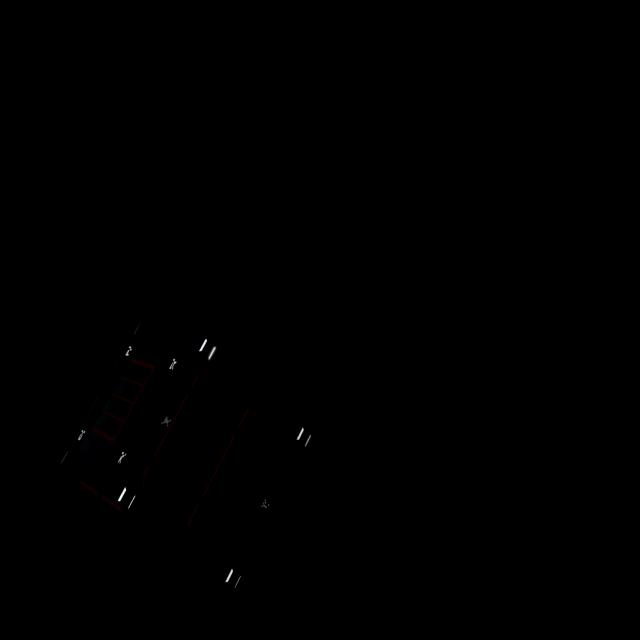satellite: (37, 305, 324, 592)
